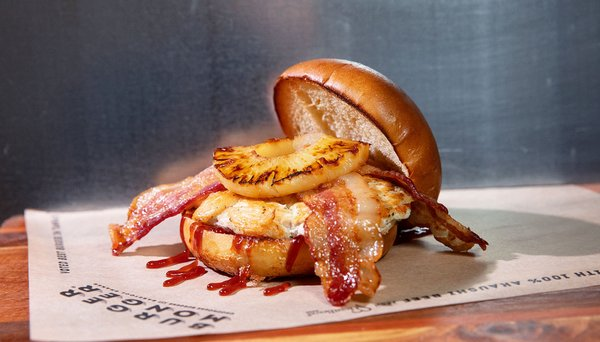soup: (109, 57, 489, 305)
